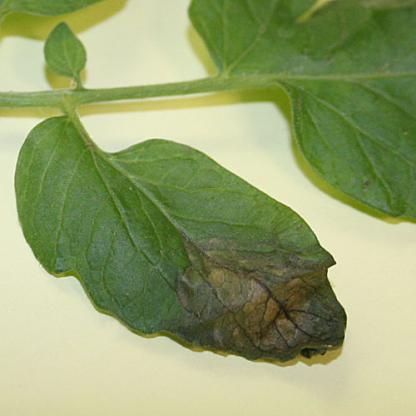tomato leaf late blight: (11, 105, 365, 377)
